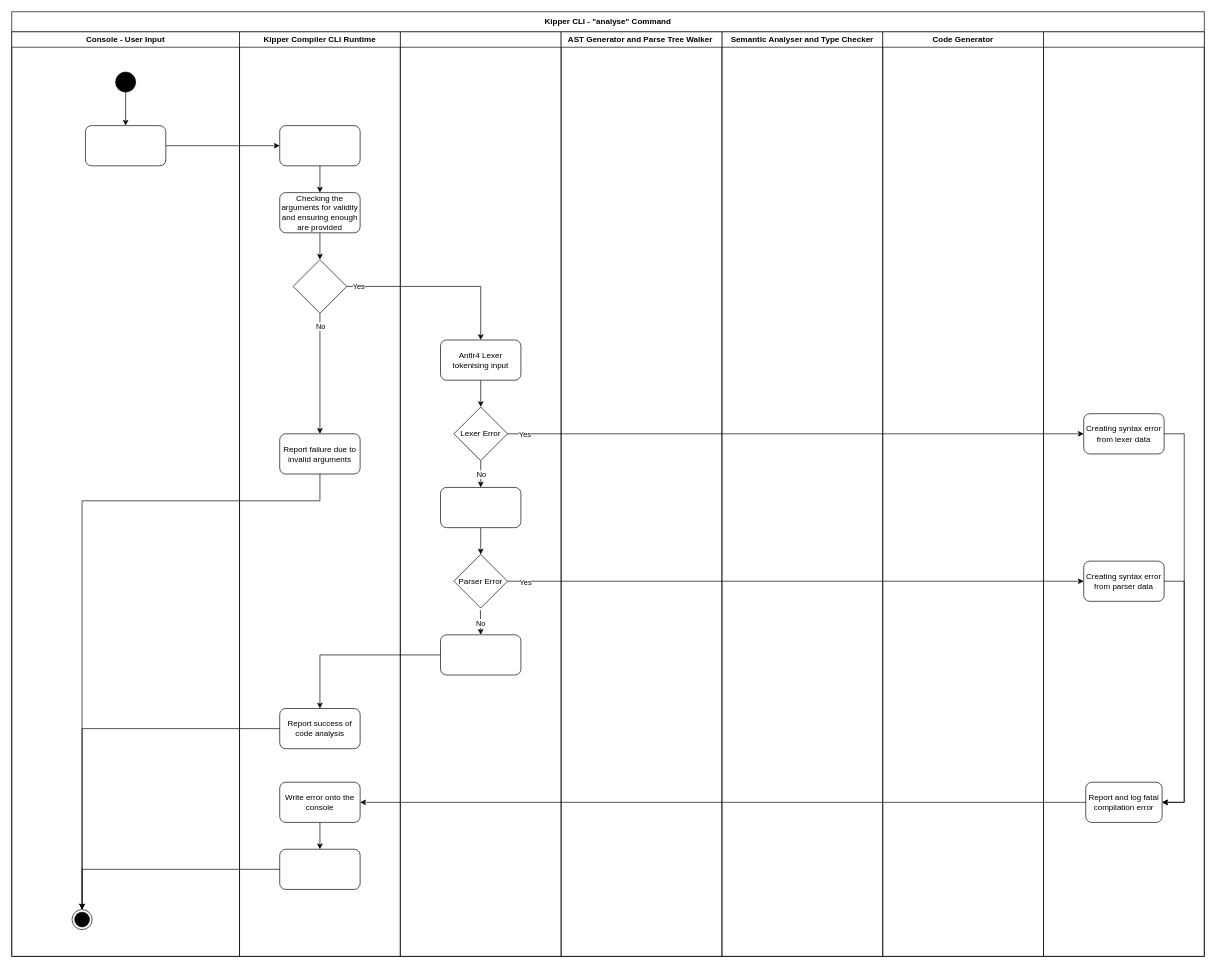
Image size: 1216x968. Some labels were removed from this diagram. The box of each missing label's shape, as (x1, y1, x2, y2) in pixels:
Antlr4 Lexer and Parser: (400, 31, 561, 956)
Antlr4 Parser generating parse tree: (440, 487, 521, 528)
Calling the CLI command "analyse": (85, 125, 166, 166)
Error Reporting: (1043, 31, 1204, 956)
Parsing and processing arguments: (279, 125, 360, 166)
Report failure of code analysis: (279, 849, 360, 889)
Valid?: (292, 259, 347, 313)
Wrapping up parsing metadata and returning parse tree: (440, 634, 521, 675)
